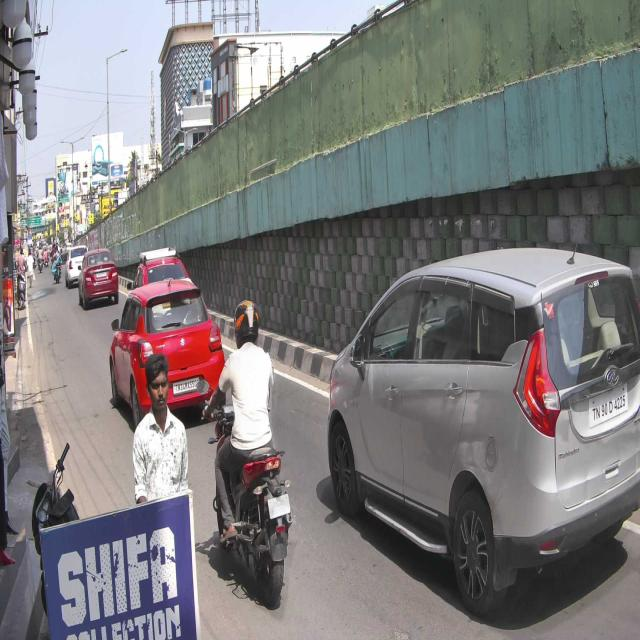single_rider: (196, 296, 295, 613)
